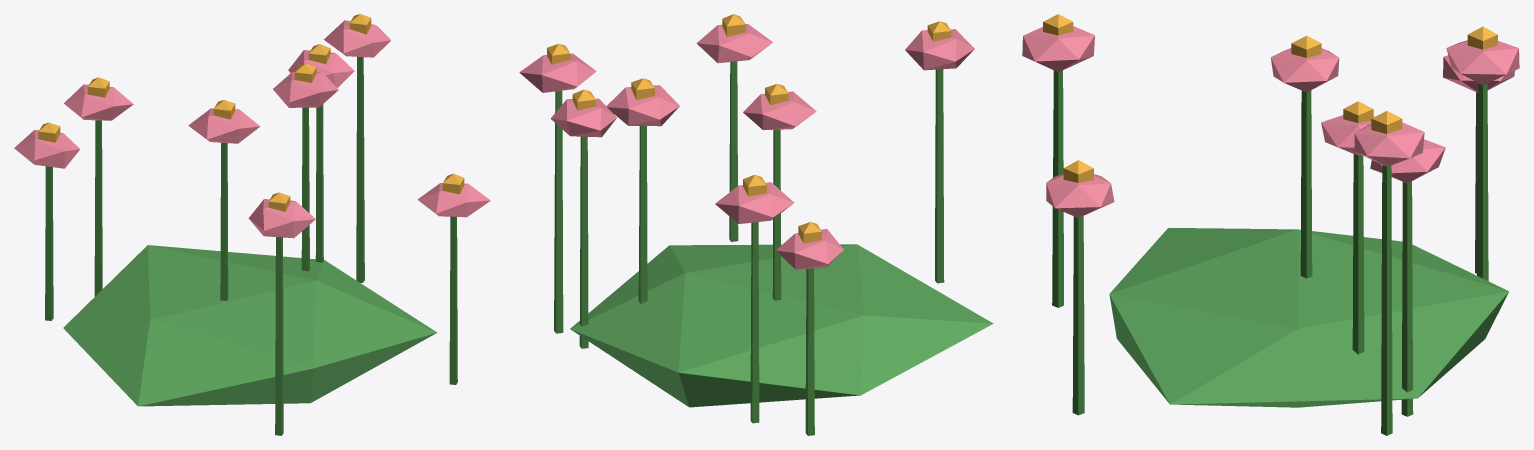
The model's file is flowers-pink.glb.
The picture shows the model from 3 angles, left to right: view 1: azimuth 30°, elevation 25°; view 2: azimuth 150°, elevation 25°; view 3: azimuth 270°, elevation 25°; orthographic projection. The views are drawn at different scales.
Visible parts, largest first — view 1: flowers; view 2: flowers; view 3: flowers.
Part boxes in pixels (x1,y1,x2,y2): flowers: (14, 14, 490, 435); flowers: (519, 14, 993, 435); flowers: (1022, 14, 1519, 435).
Bounding box in the file's own units: 0.8086 × 0.6406 × 0.8486.
